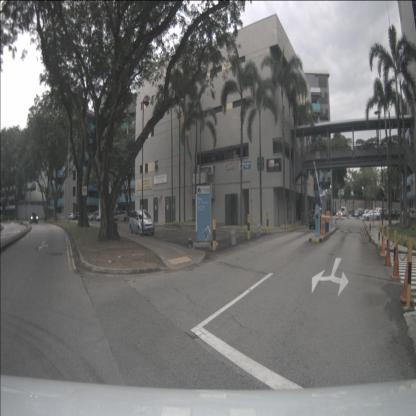movable_object-trafficcone: (400, 255, 414, 304), (391, 244, 401, 281), (384, 239, 392, 266), (380, 237, 386, 257), (364, 229, 368, 243), (284, 220, 287, 233), (287, 219, 289, 233)
vehicle-car: (129, 209, 155, 236), (308, 208, 327, 229), (384, 208, 401, 220), (114, 210, 128, 222), (363, 211, 380, 220), (90, 212, 102, 221), (30, 212, 38, 224), (66, 213, 76, 221), (340, 207, 348, 217), (336, 209, 343, 220), (354, 210, 360, 218)
vehicle-truck: (99, 198, 120, 231)
